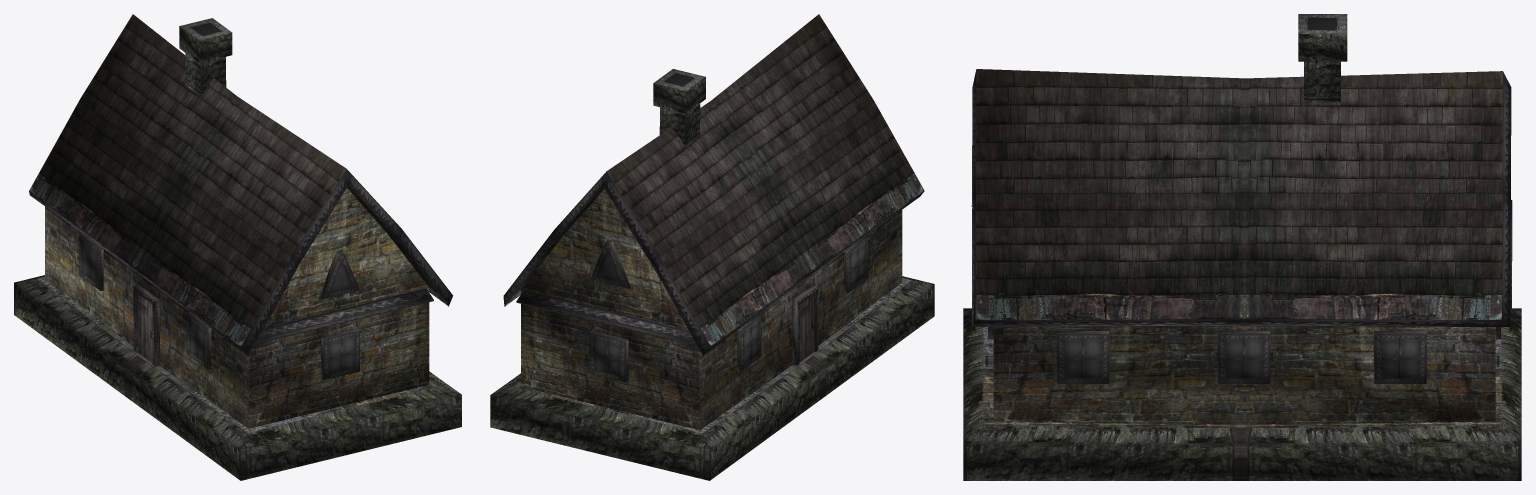
File: house6-03.obj
3 views of the same model, side by side, from view 1: azimuth 30°, elevation 25°; view 2: azimuth 150°, elevation 25°; view 3: azimuth 270°, elevation 25° (orthographic). The views are drawn at different scales.
Size of the model in its own units: 7.39 by 10.14 by 13.11.
Materials: 1 (1 with a texture image).
